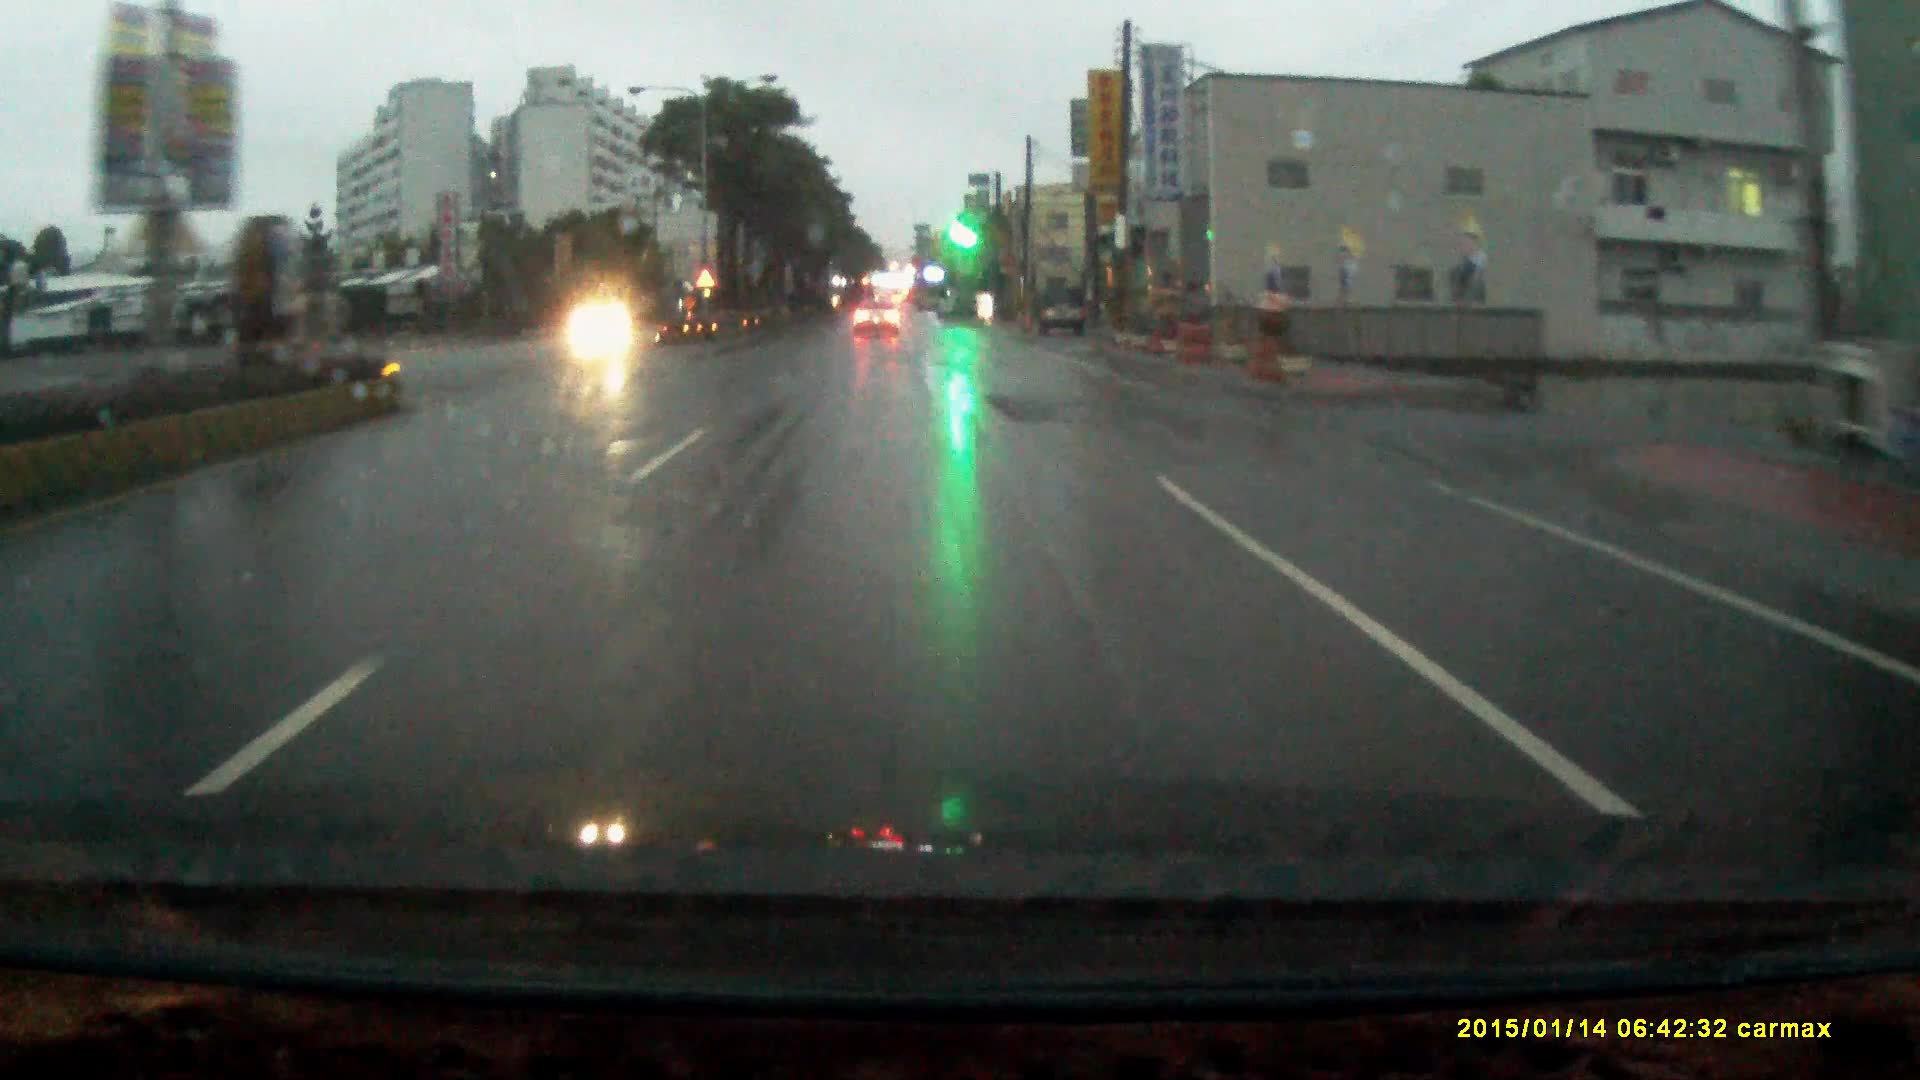vehicle: (1040, 287, 1089, 339), (849, 301, 899, 338)
